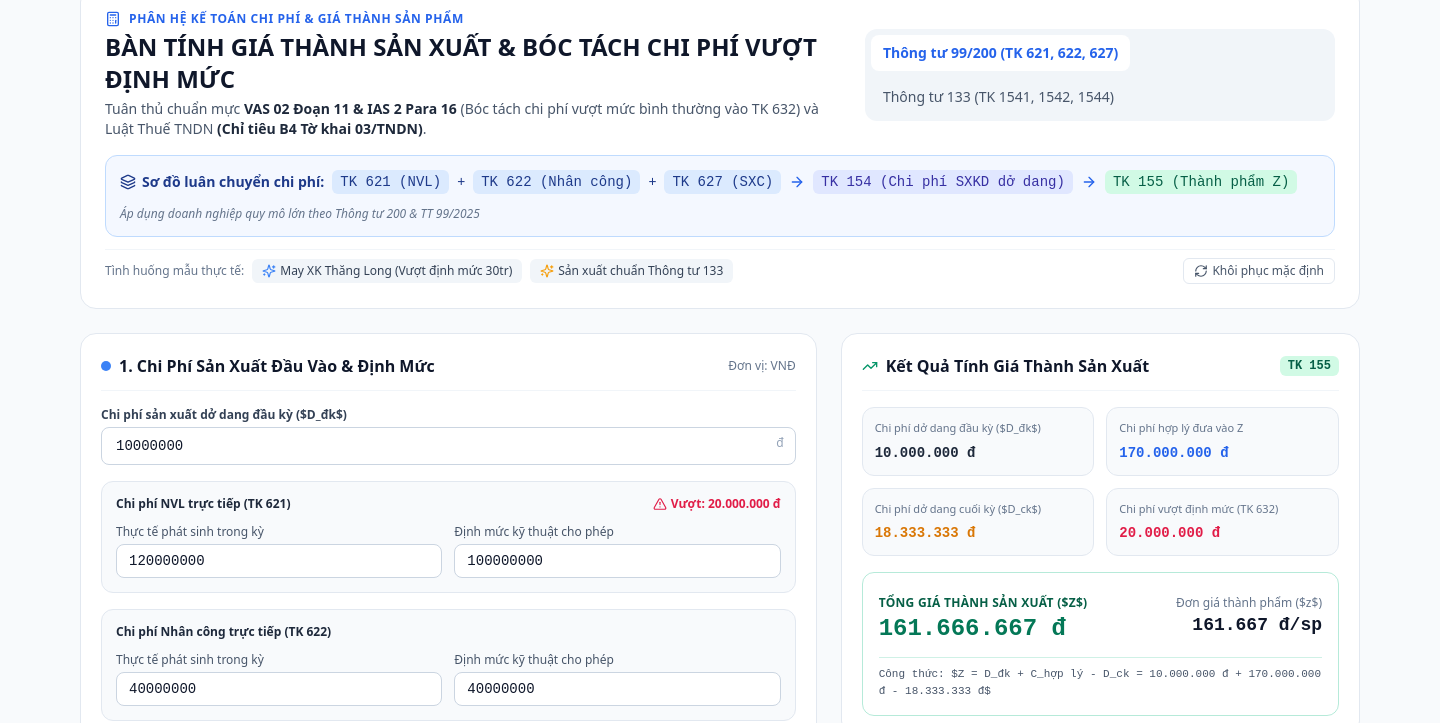
Test: Manufacturing Cost Workbench & Abnormal Waste Calculator (ManufacturingCostCalculator.tsx) › T3.9: Form validation prevents negative inputs or completion percentage >100%
The width and height of the screenshot is (1440, 723).
In the number field with test id "input-beginning-wip": point(448, 446) [101,427,796,465], type "-5000000"
(page scrolled)
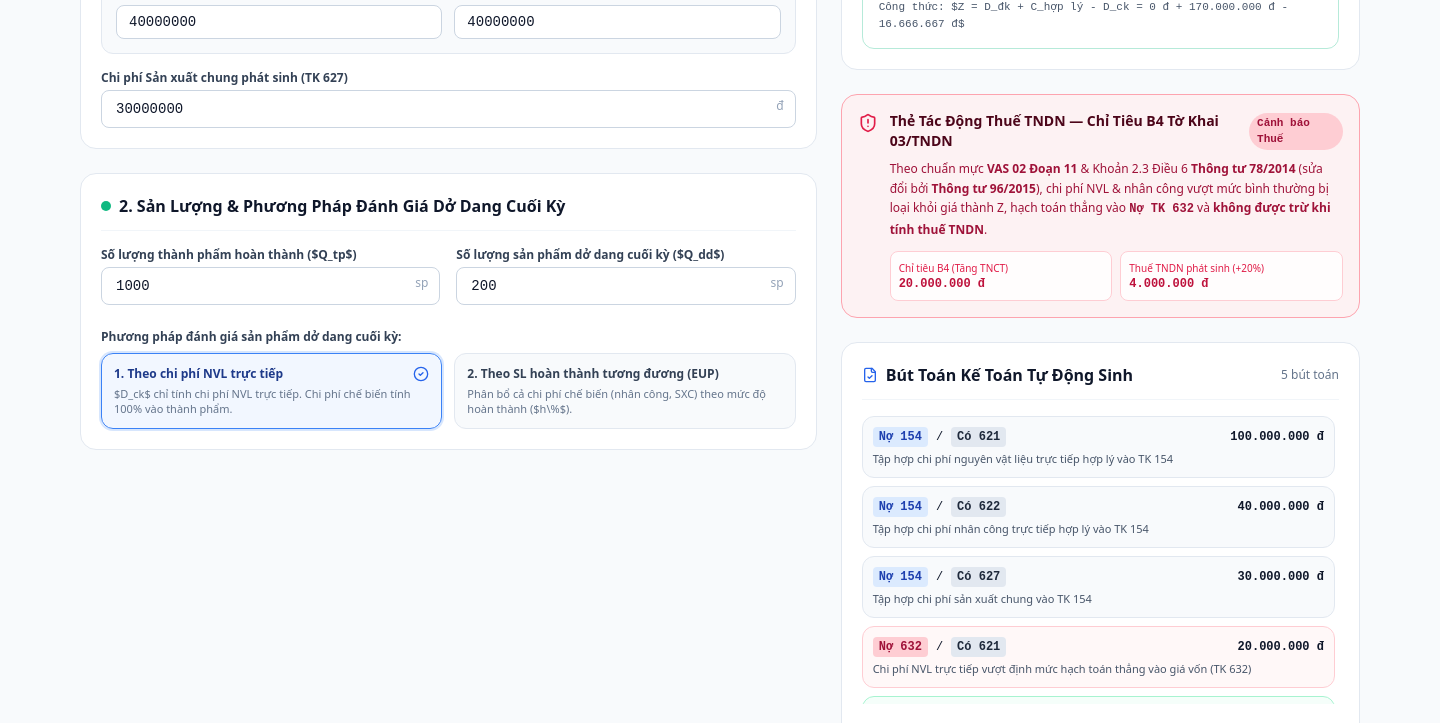
Click the button with test id "wip-method-EQUIVALENT_UNITS": point(625, 391) [454,353,796,429]
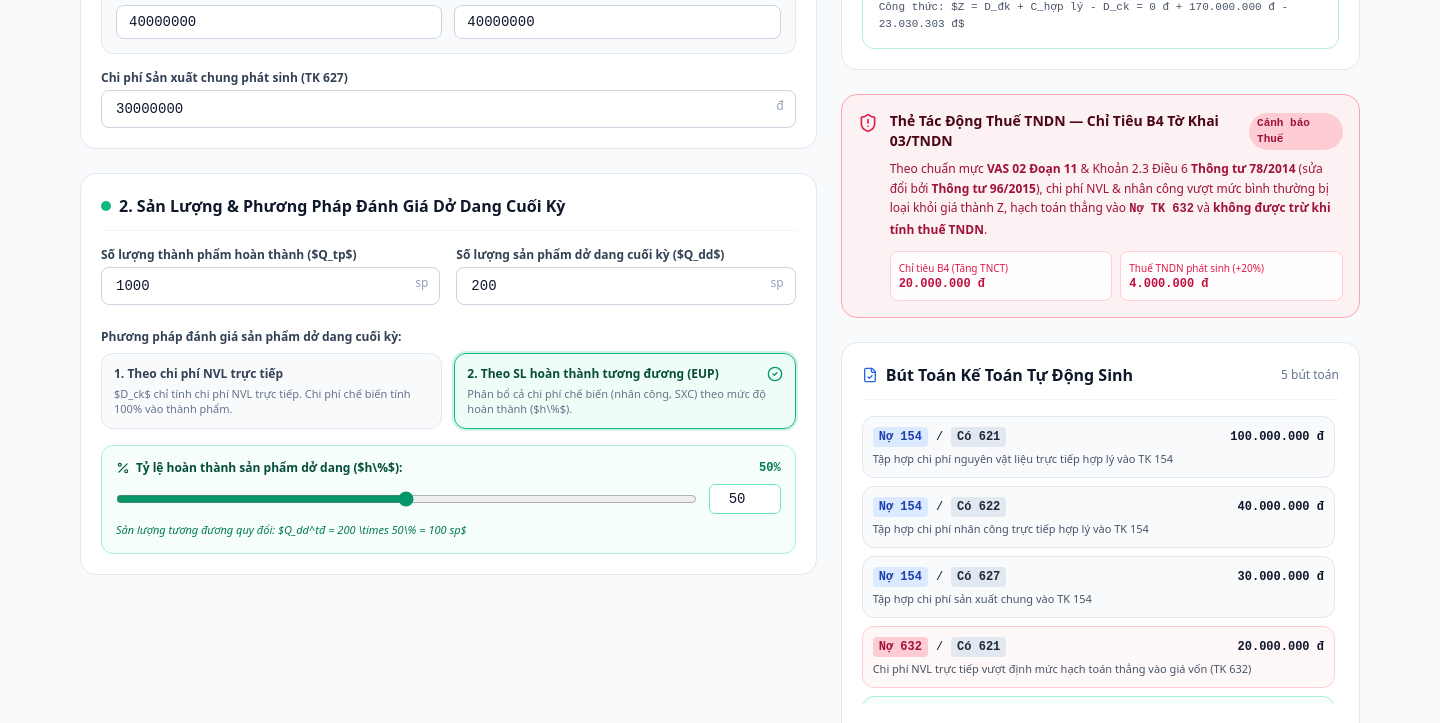
Replace the text in the number field with test id "input-completion-percentage" with "150": point(745, 499) [708,484,781,514]
(page scrolled)
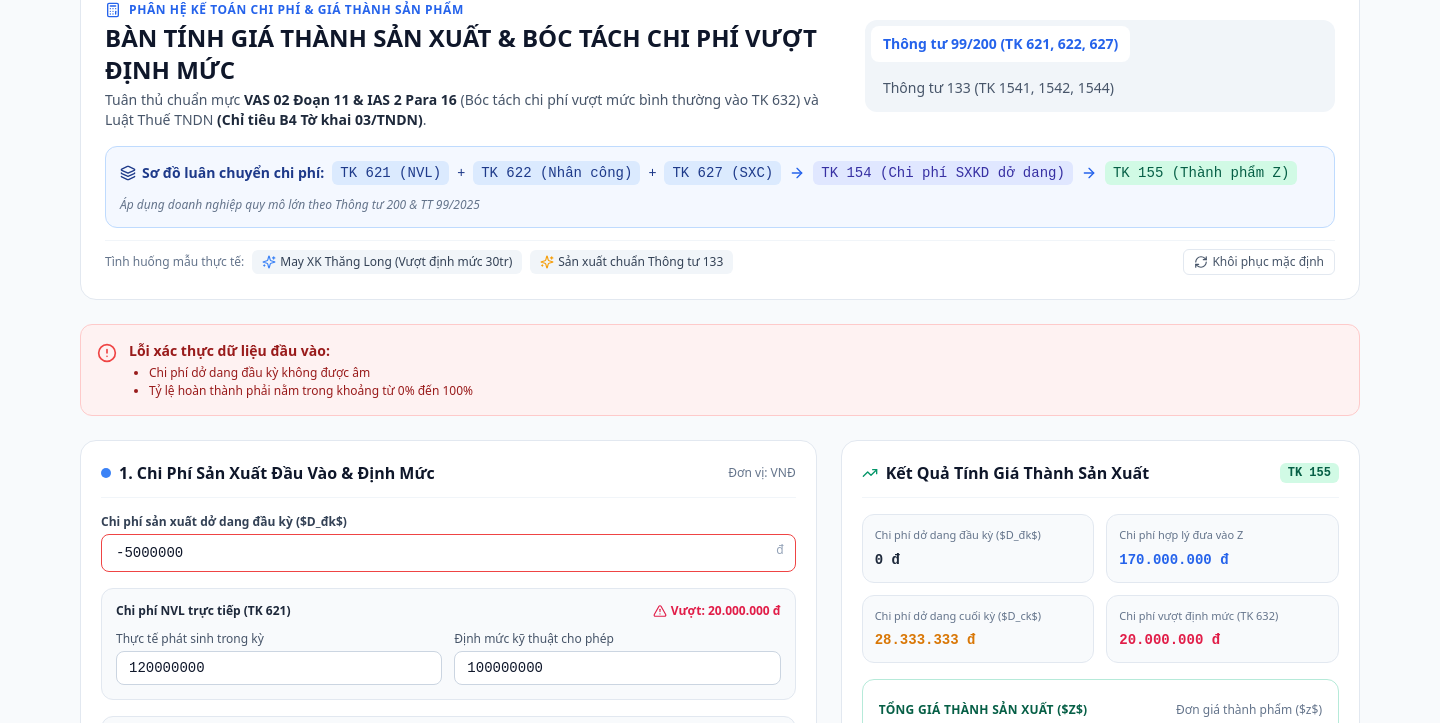
Check: the list item "Tỷ lệ hoàn thành phải nằm trong khoảng từ 0% đến 100%" is shown, box [149,383,473,399]
